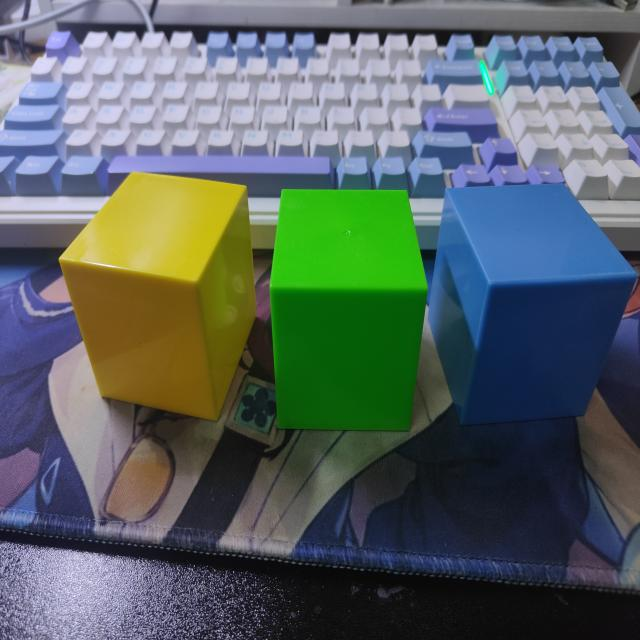blue: (428, 181, 638, 428)
green: (269, 189, 429, 434)
yellow: (58, 173, 254, 423)
